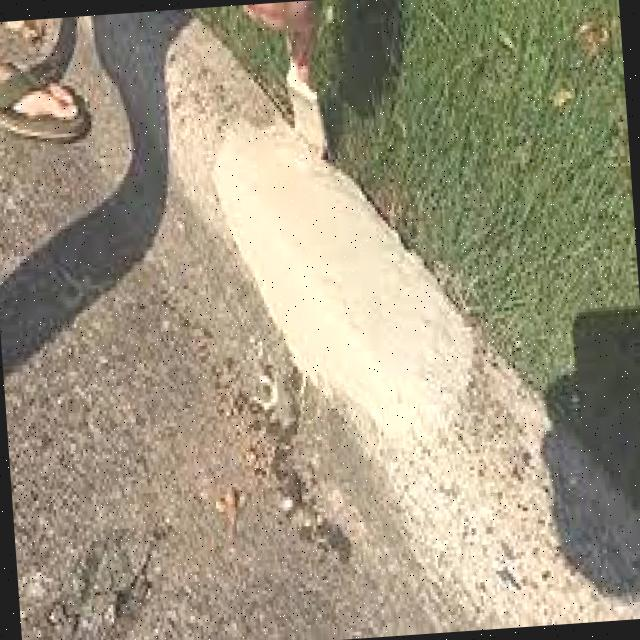curb: (64, 29, 640, 630)
